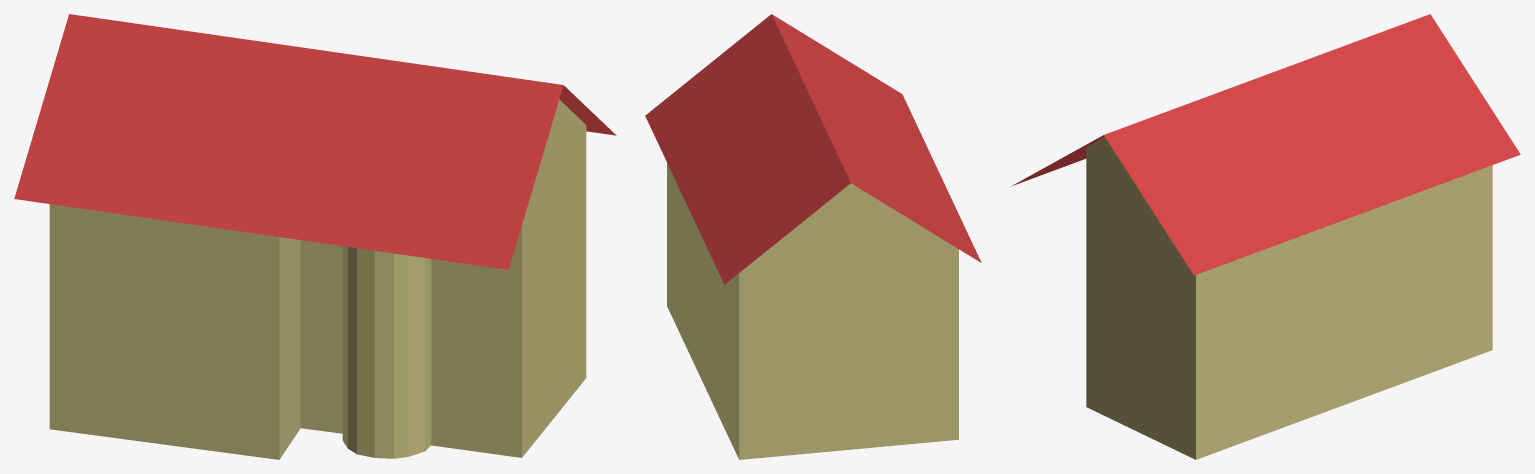
3 views of the same model, side by side, from view 1: azimuth 30°, elevation 25°; view 2: azimuth 150°, elevation 25°; view 3: azimuth 270°, elevation 25° (orthographic). The views are drawn at different scales.
Bounding box in the file's own units: 18.68 × 19.23 × 12.18.
